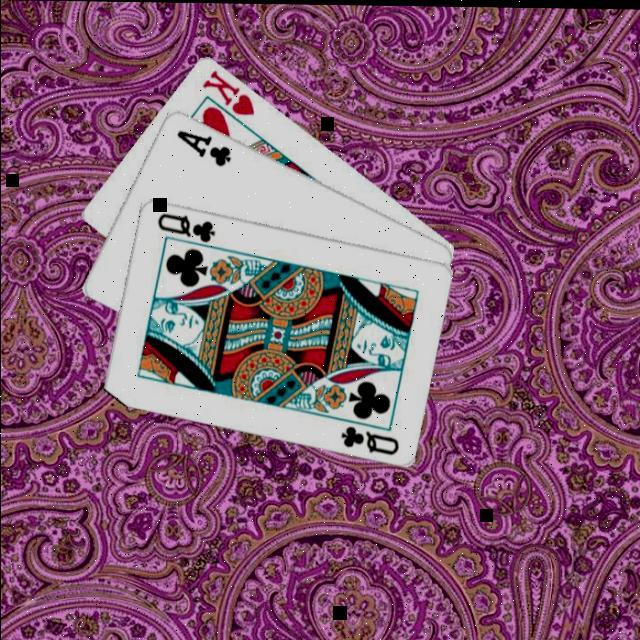AC: (172, 125, 232, 168)
KH: (198, 64, 256, 117)
QC: (153, 207, 217, 244), (336, 420, 400, 456)
